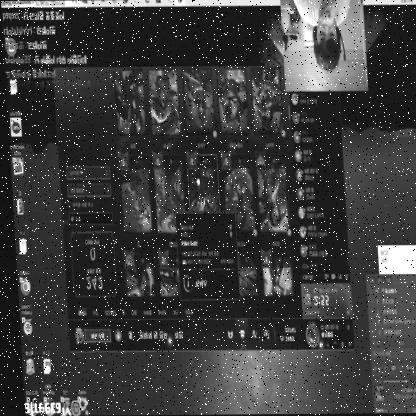streamer: (288, 0, 354, 72)
